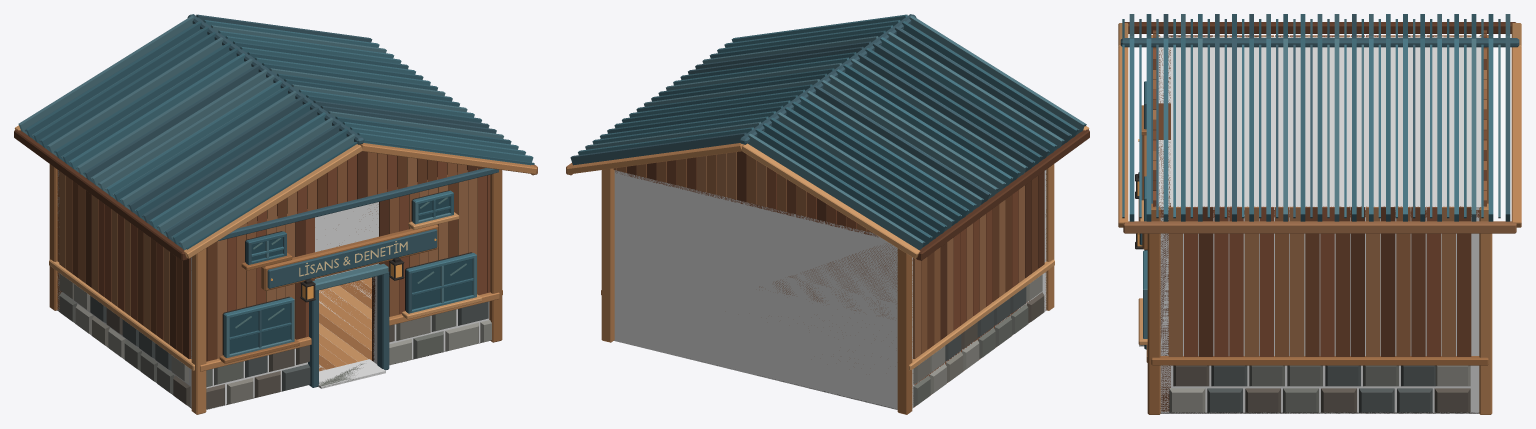
The model's file is inspection_office.glb.
3 renders of one model, left to right at view 1: azimuth 30°, elevation 25°; view 2: azimuth 150°, elevation 25°; view 3: azimuth 270°, elevation 25°, orthographic. The views are drawn at different scales.
Parts seen in each view (by area): view 1: Roof, Cladding, Stonework, Frame, Windows, Gables, Fascia, Roof seams, Sign, Shell-col, Floorboards, Doorframe (+3 smaller); view 2: Roof, Shell-col, Cladding, Frame, Gables, Fascia, Stonework, Roof seams, Walls, Ceiling, Ceiling-col; view 3: Cladding, Ceiling-col, Roof, Stonework, Roof seams, Shell-col, Fascia, Frame, Walls, Gables, Windows, Floor (+1 smaller).
Boxes of the visible parts, x1=… form: Roof: x1=18, y1=14, x2=533, y2=249; Cladding: x1=59, y1=167, x2=490, y2=361; Stonework: x1=59, y1=273, x2=491, y2=409; Frame: x1=49, y1=164, x2=502, y2=414; Windows: x1=219, y1=190, x2=482, y2=363; Gables: x1=238, y1=151, x2=485, y2=228; Fascia: x1=14, y1=125, x2=537, y2=260; Roof seams: x1=24, y1=24, x2=534, y2=249; Sign: x1=261, y1=224, x2=438, y2=290; Shell-col: x1=57, y1=170, x2=489, y2=409; Floorboards: x1=319, y1=277, x2=371, y2=371; Doorframe: x1=308, y1=263, x2=389, y2=387; Roof: x1=570, y1=14, x2=1085, y2=249; Shell-col: x1=614, y1=170, x2=1046, y2=409; Cladding: x1=913, y1=171, x2=1044, y2=358; Frame: x1=601, y1=164, x2=1054, y2=414; Gables: x1=613, y1=151, x2=873, y2=233; Fascia: x1=566, y1=126, x2=1089, y2=260; Stonework: x1=913, y1=274, x2=1044, y2=406; Roof seams: x1=756, y1=18, x2=1086, y2=244; Walls: x1=759, y1=174, x2=1046, y2=407; Ceiling: x1=615, y1=171, x2=878, y2=237; Ceiling-col: x1=623, y1=173, x2=881, y2=238; Cladding: x1=1153, y1=35, x2=1471, y2=356; Ceiling-col: x1=1161, y1=47, x2=1478, y2=218; Roof: x1=1120, y1=14, x2=1519, y2=221; Stonework: x1=1169, y1=365, x2=1470, y2=412; Roof seams: x1=1122, y1=19, x2=1500, y2=218; Shell-col: x1=1158, y1=36, x2=1481, y2=413; Fascia: x1=1118, y1=22, x2=1521, y2=233; Frame: x1=1146, y1=35, x2=1492, y2=414; Walls: x1=1158, y1=36, x2=1170, y2=411; Gables: x1=1153, y1=30, x2=1486, y2=206; Windows: x1=1138, y1=81, x2=1147, y2=344; Floor: x1=1161, y1=412, x2=1478, y2=413.
Bounding box in the file's own units: 8.55 × 5.72 × 7.18.
